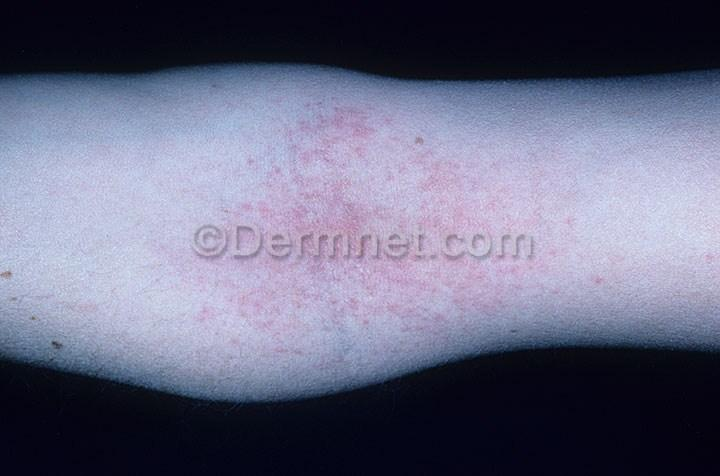Eritema 2: (194, 102, 567, 357)
